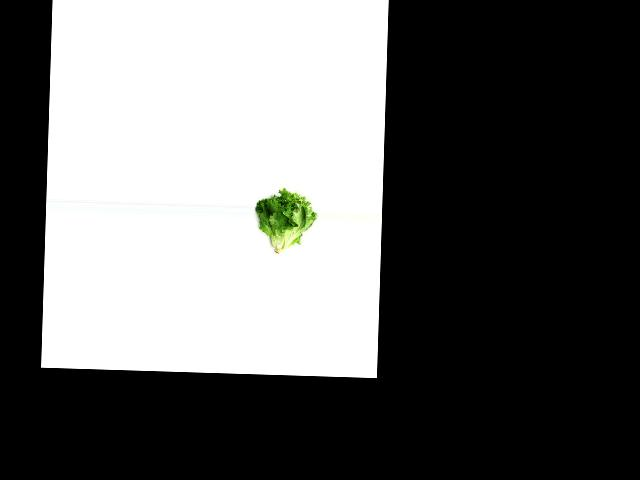lettuce: (253, 189, 319, 255)
